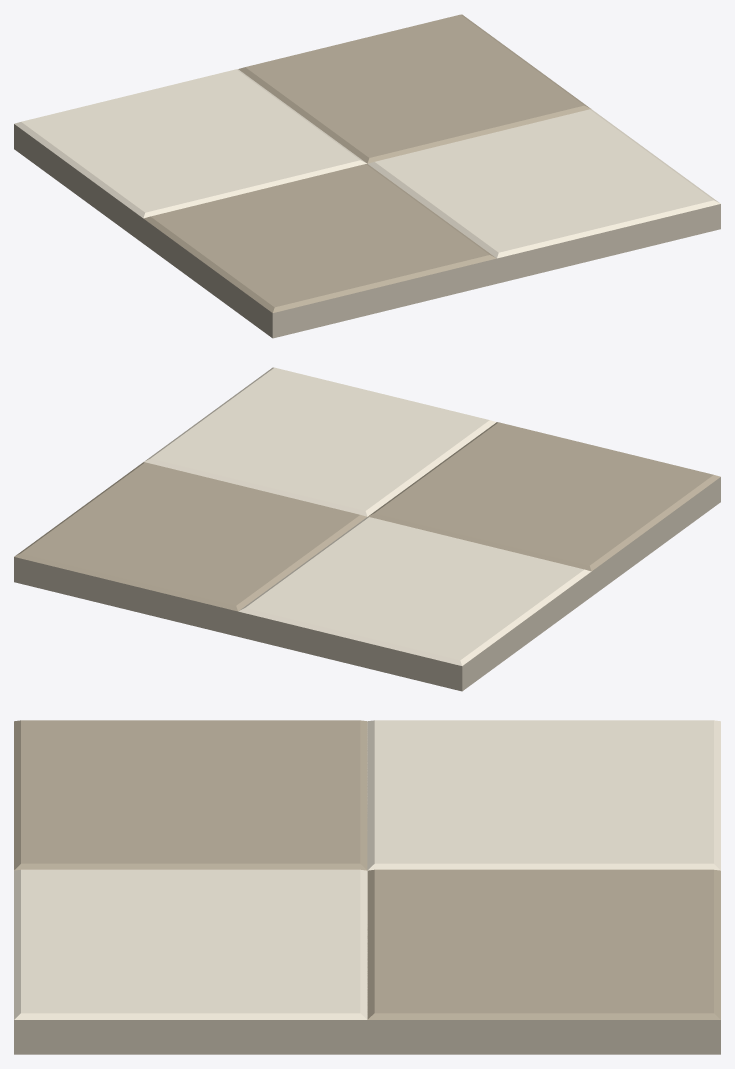
Rendered from wg_boden_schach_a.glb.
3 renders of one model, top to bottom at view 1: azimuth 30°, elevation 25°; view 2: azimuth 150°, elevation 25°; view 3: azimuth 270°, elevation 25°, orthographic. The views are drawn at different scales.
Visible parts, largest first — view 1: wg_boden_schach_a; view 2: wg_boden_schach_a; view 3: wg_boden_schach_a.
Part boxes in pixels (box(x1,y1,x2,y2)): wg_boden_schach_a: box(14, 14, 720, 338); wg_boden_schach_a: box(14, 367, 720, 691); wg_boden_schach_a: box(14, 720, 720, 1054).
Size of the model in its own units: 1 by 0.06 by 1.
